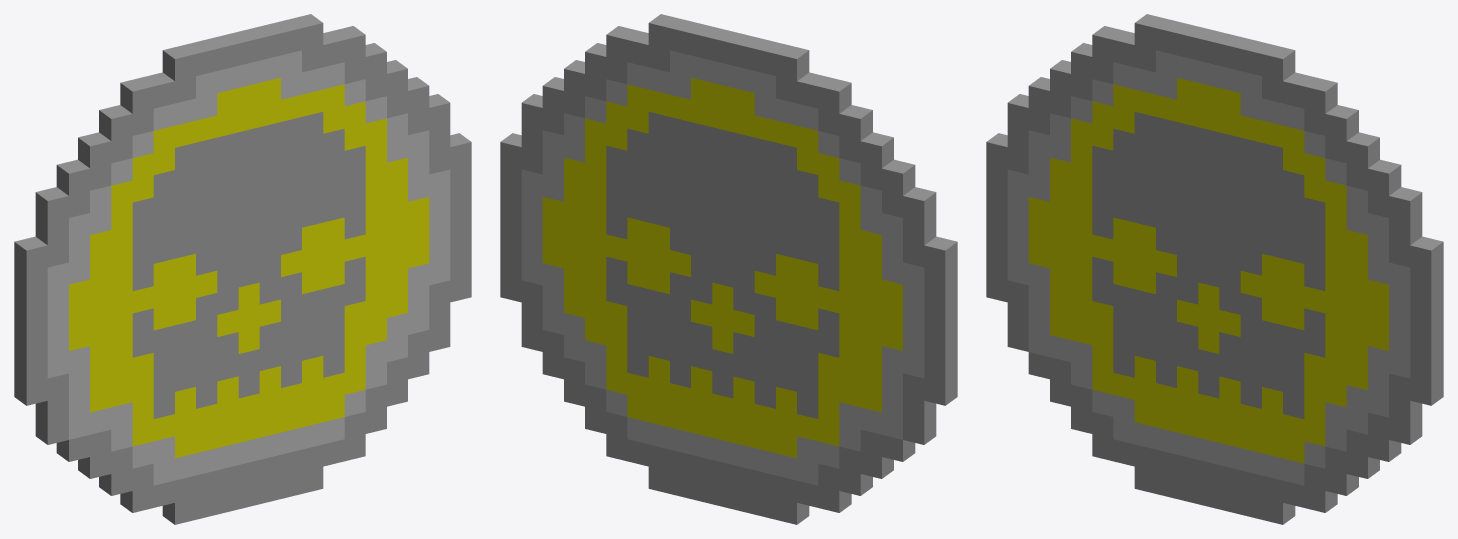
The picture shows the model from 3 angles, left to right: view 1: azimuth 30°, elevation 25°; view 2: azimuth 150°, elevation 25°; view 3: azimuth 330°, elevation 25°; orthographic projection.
Size of the model in its own units: 1.05 by 1.05 by 0.05.
